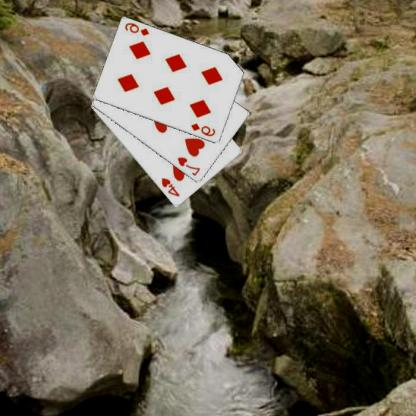4H: (160, 176, 182, 198)
6D: (190, 121, 218, 138), (124, 21, 152, 38)
7H: (177, 154, 203, 178)
